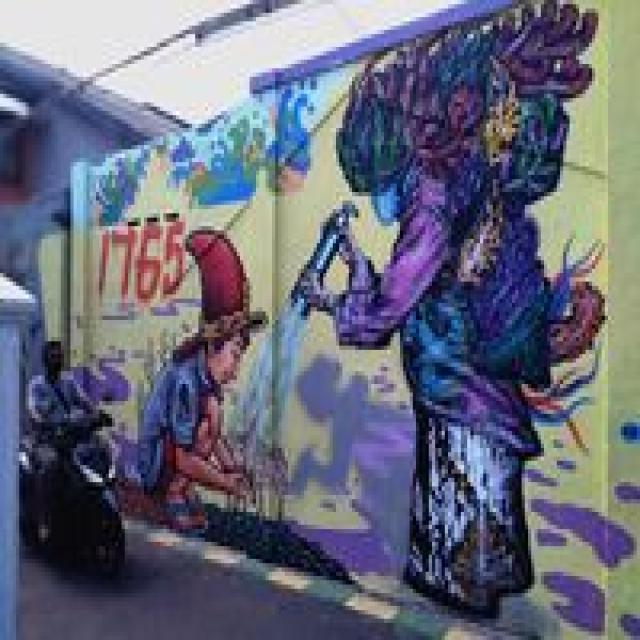-: (296, 3, 608, 621), (136, 228, 253, 531), (95, 72, 317, 216), (96, 220, 186, 302)
